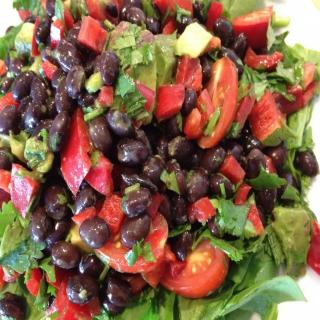Salad: (0, 0, 320, 320)
Watermelon: (58, 105, 88, 195), (54, 266, 98, 320), (248, 89, 286, 143), (234, 188, 264, 236), (11, 165, 38, 218), (85, 150, 113, 198), (78, 13, 109, 55), (174, 54, 202, 88), (236, 84, 256, 130), (100, 195, 124, 233), (158, 85, 184, 118), (219, 155, 245, 186), (70, 206, 97, 225), (26, 270, 44, 294), (148, 193, 164, 217)
